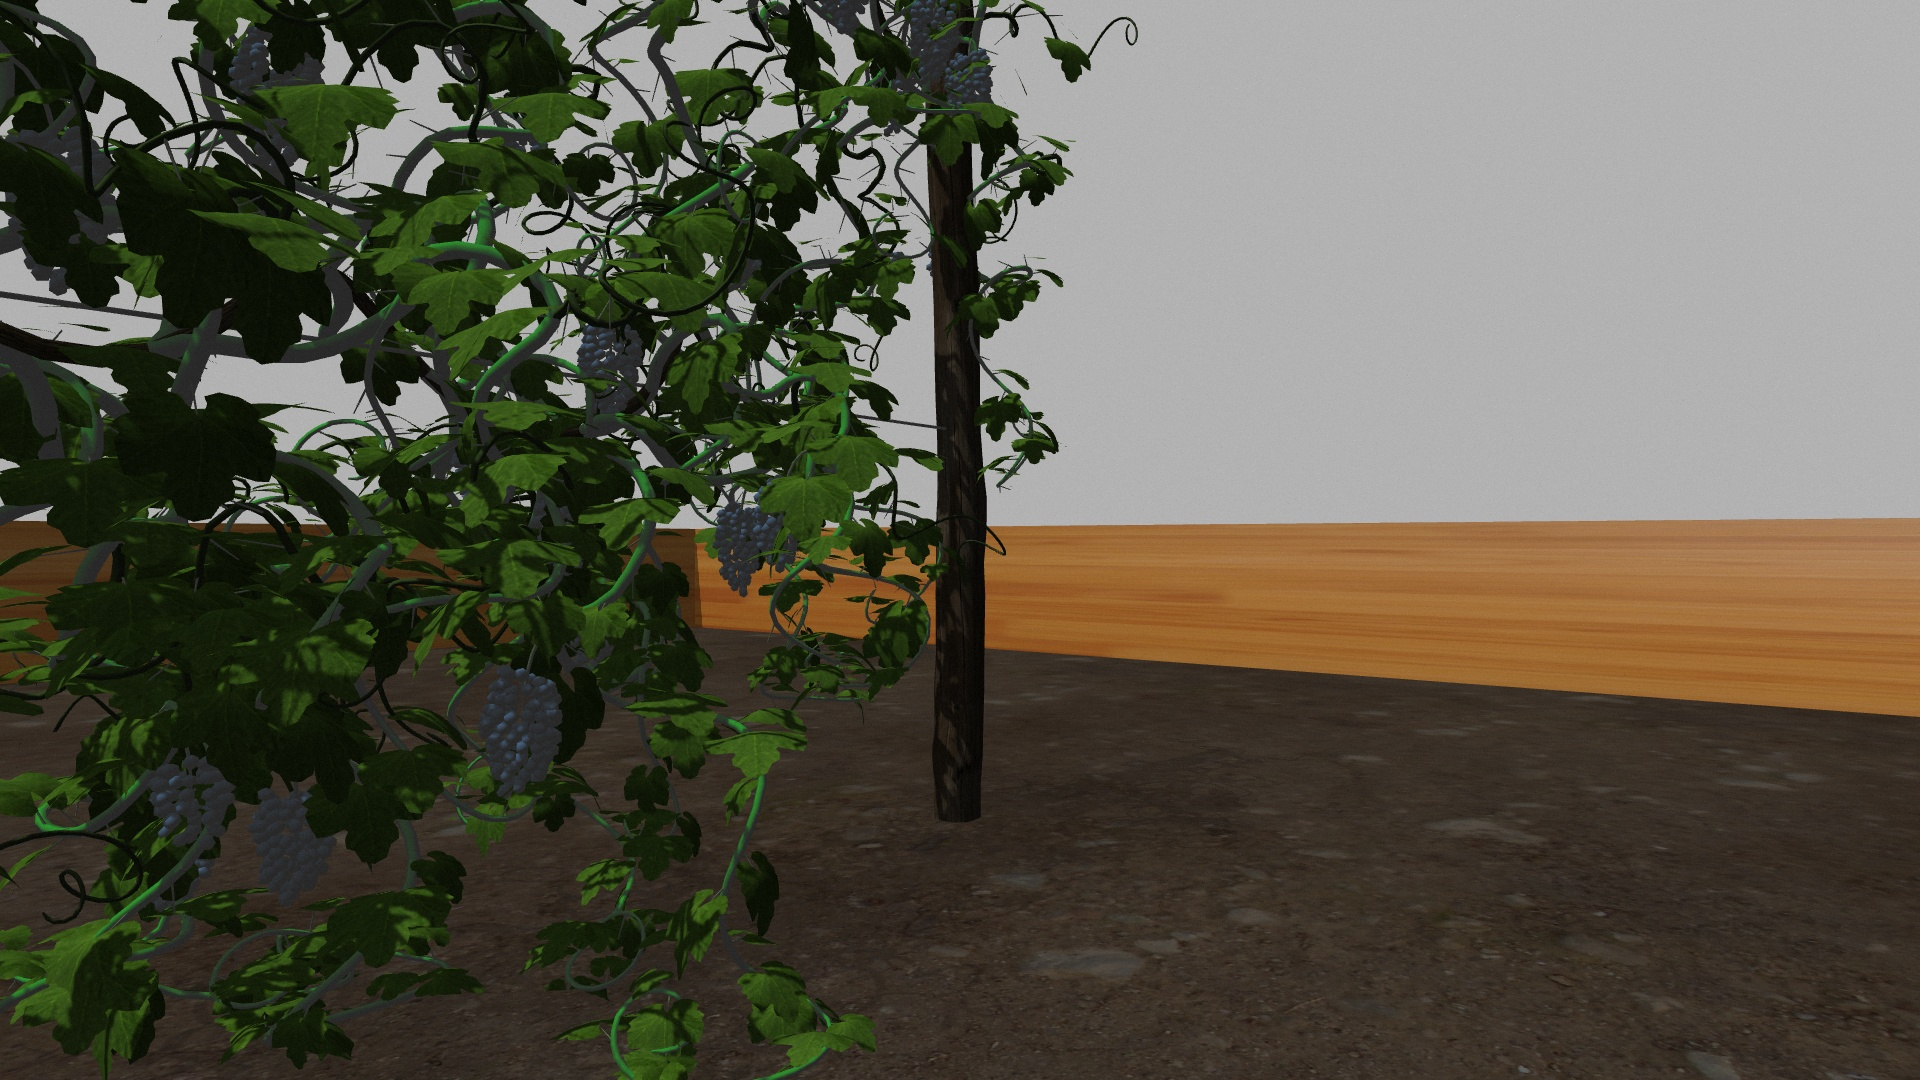grape: (479, 667, 564, 796), (248, 790, 338, 905), (146, 757, 236, 851), (574, 328, 644, 415), (713, 504, 766, 596), (902, 7, 957, 90), (947, 53, 994, 105)
